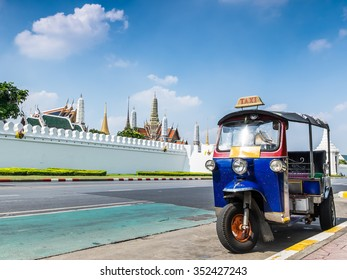threewheel: (204, 96, 337, 254)
